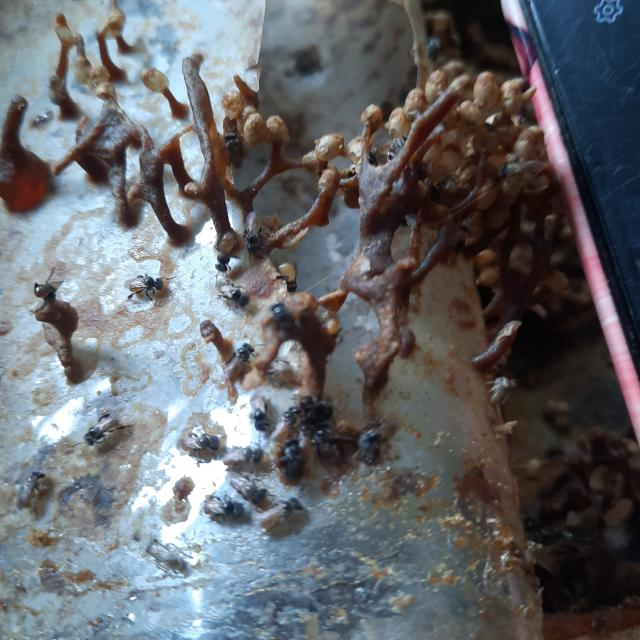honeybee: (215, 117, 254, 167), (353, 418, 390, 469), (308, 425, 351, 467), (25, 275, 69, 316), (124, 264, 170, 302), (219, 340, 257, 386), (183, 421, 224, 461), (209, 226, 243, 274), (244, 388, 280, 433), (248, 493, 303, 522), (80, 410, 122, 447), (226, 440, 269, 475), (268, 251, 304, 290), (270, 436, 304, 476), (204, 491, 248, 521), (266, 298, 298, 338), (288, 388, 324, 422), (216, 282, 253, 310), (288, 480, 289, 487)
